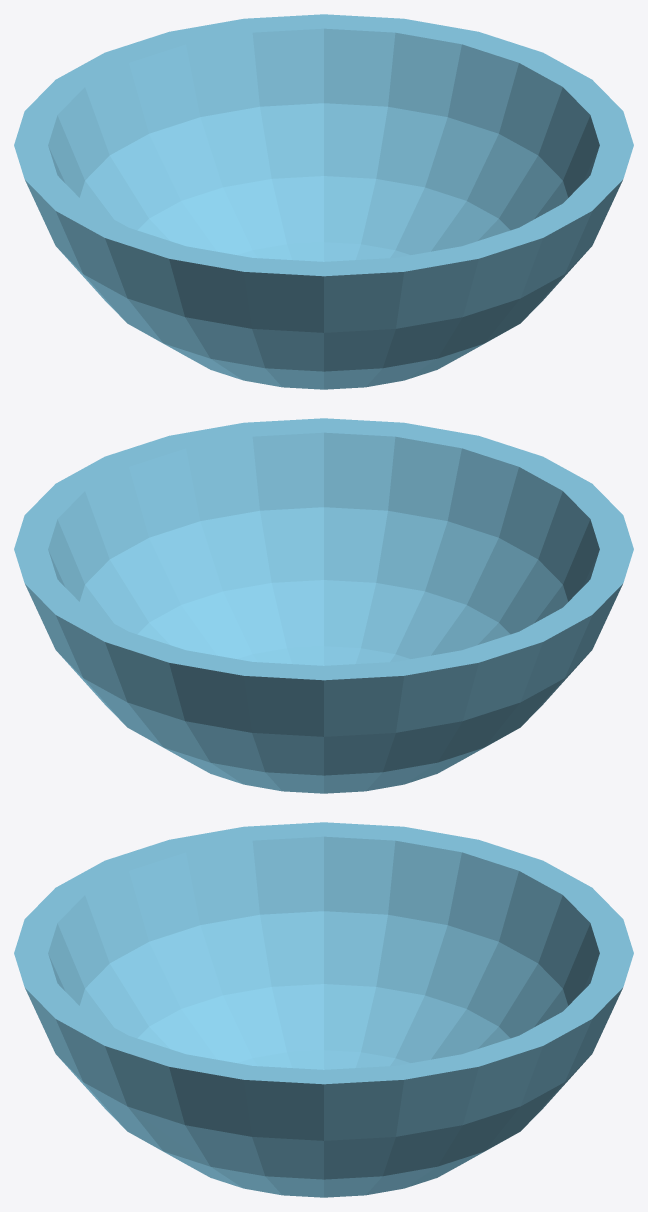
3 renders of one model, top to bottom at view 1: azimuth 30°, elevation 25°; view 2: azimuth 150°, elevation 25°; view 3: azimuth 270°, elevation 25°, orthographic.
Bounding box in the file's own units: 0.6824 × 0.2618 × 0.6824.
